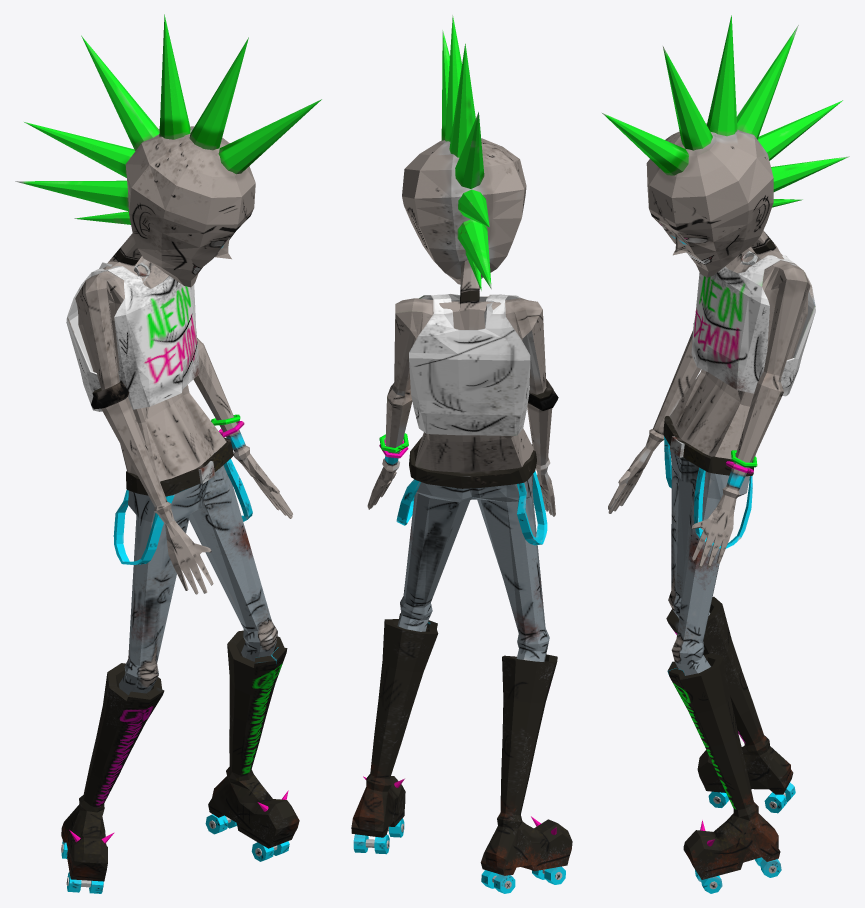
File: punkAnimation_000013.obj
3 views of the same model, side by side, from view 1: azimuth 30°, elevation 25°; view 2: azimuth 150°, elevation 25°; view 3: azimuth 270°, elevation 25° (orthographic). The views are drawn at different scales.
Visible parts, largest first — view 1: Cube.004_Cube.003; view 2: Cube.004_Cube.003; view 3: Cube.004_Cube.003.
Boxes of the visible parts, box(x1,y1,x2,y2) form: Cube.004_Cube.003: box(15, 14, 321, 893); Cube.004_Cube.003: box(351, 15, 572, 893); Cube.004_Cube.003: box(602, 15, 849, 893).
Size of the model in its own units: 1.95 by 7.37 by 2.01.
